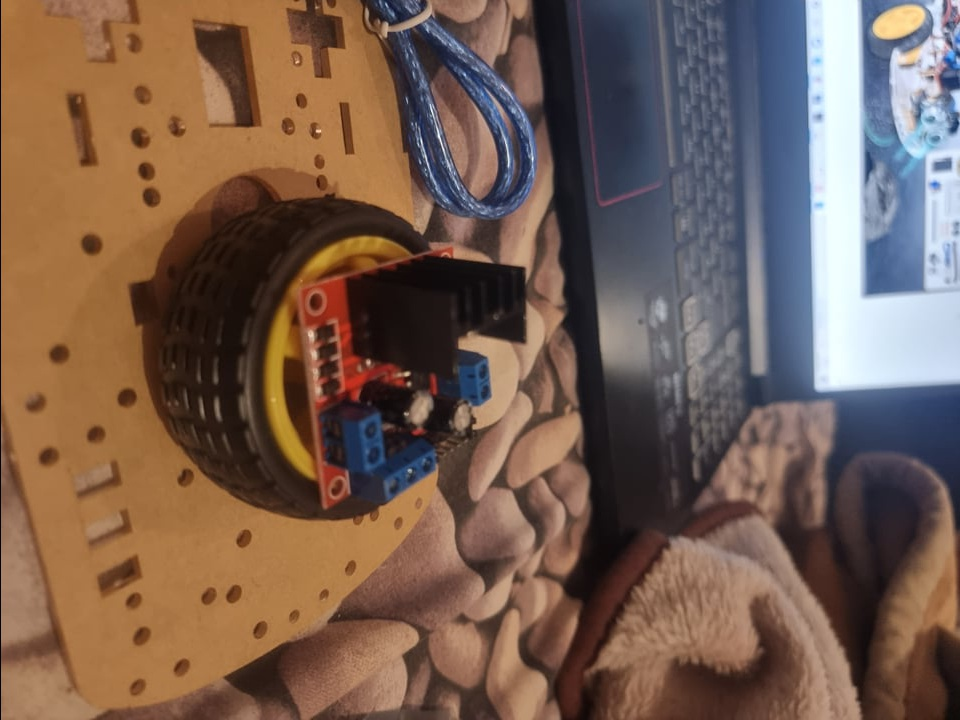MOTOR: (295, 241, 528, 508)
